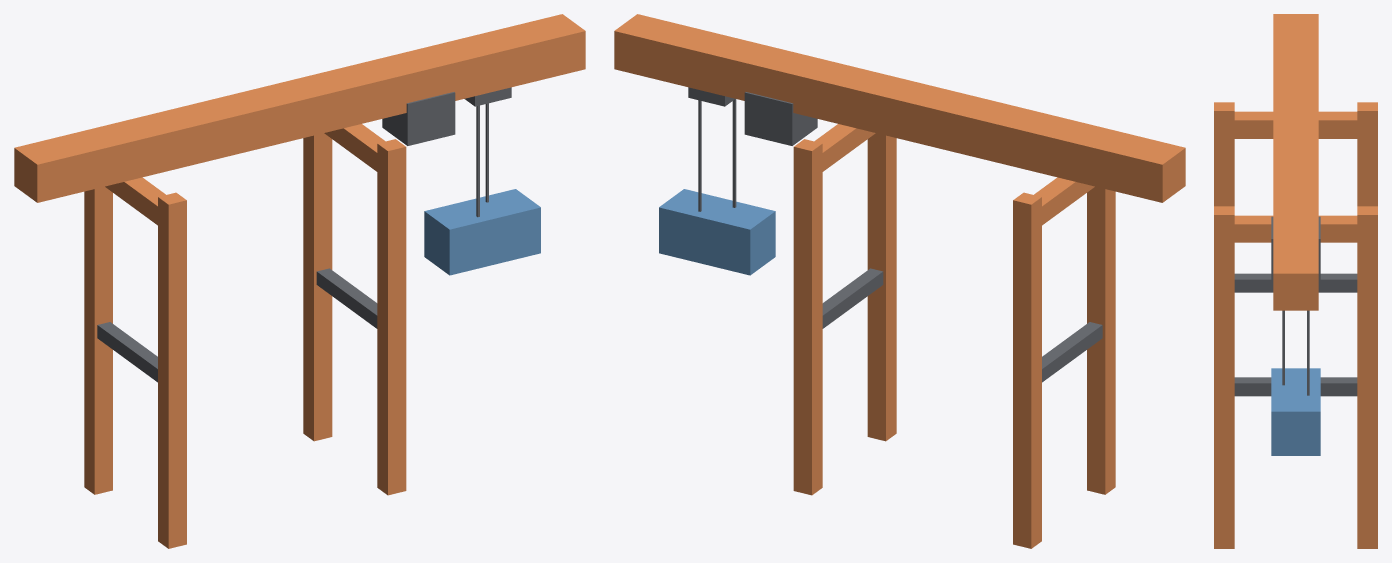
Rendered from prop_crane.glb.
3 views of the same model, side by side, from view 1: azimuth 30°, elevation 25°; view 2: azimuth 150°, elevation 25°; view 3: azimuth 270°, elevation 25° (orthographic). The views are drawn at different scales.
Parts seen in each view (by area): view 1: prop_crane; view 2: prop_crane; view 3: prop_crane.
Part boxes in pixels (x1=…): prop_crane: x1=14, y1=14, x2=585, y2=548; prop_crane: x1=614, y1=14, x2=1185, y2=548; prop_crane: x1=1214, y1=14, x2=1377, y2=548.
Bounding box in the file's own units: 30 × 20.2 × 8.
